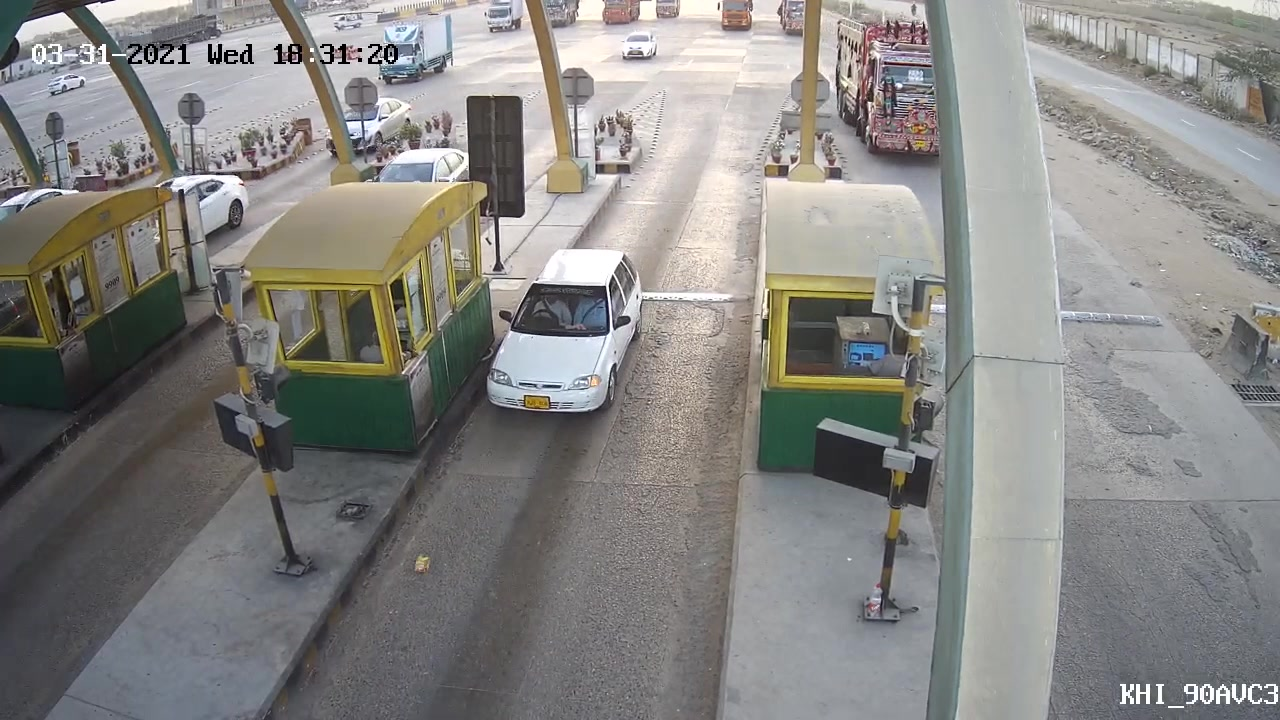F1: (478, 242, 643, 434)
